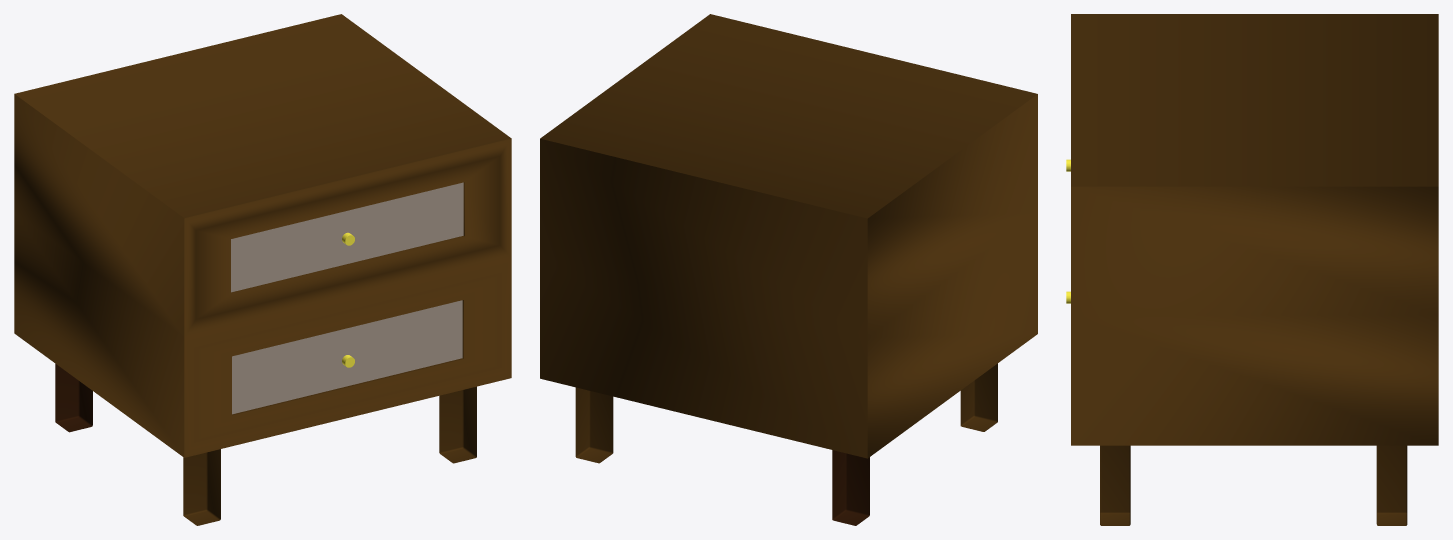
File: Metcalf_Nightstand_03.fbx
3 views of the same model, side by side, from view 1: azimuth 30°, elevation 25°; view 2: azimuth 150°, elevation 25°; view 3: azimuth 270°, elevation 25° (orthographic). The views are drawn at different scales.
Visible parts, largest first — view 1: Body, Drawer2, Drawer1, Leg3, Leg2, Leg4; view 2: Body, Leg1, Leg4, Leg2; view 3: Body, Leg1, Leg3.
Part boxes in pixels (x1,y1,x2,y2): Body: (14, 14, 511, 457); Drawer2: (232, 300, 462, 414); Drawer1: (231, 182, 463, 292); Leg3: (439, 386, 476, 463); Leg2: (183, 449, 220, 525); Leg4: (55, 364, 92, 432); Body: (540, 14, 1037, 458); Leg1: (575, 387, 613, 463); Leg4: (832, 450, 869, 525); Leg2: (960, 363, 997, 431); Body: (1071, 14, 1438, 445); Leg1: (1376, 445, 1407, 525); Leg3: (1100, 445, 1130, 525).
Size of the model in its own units: 610 by 578 by 556.
